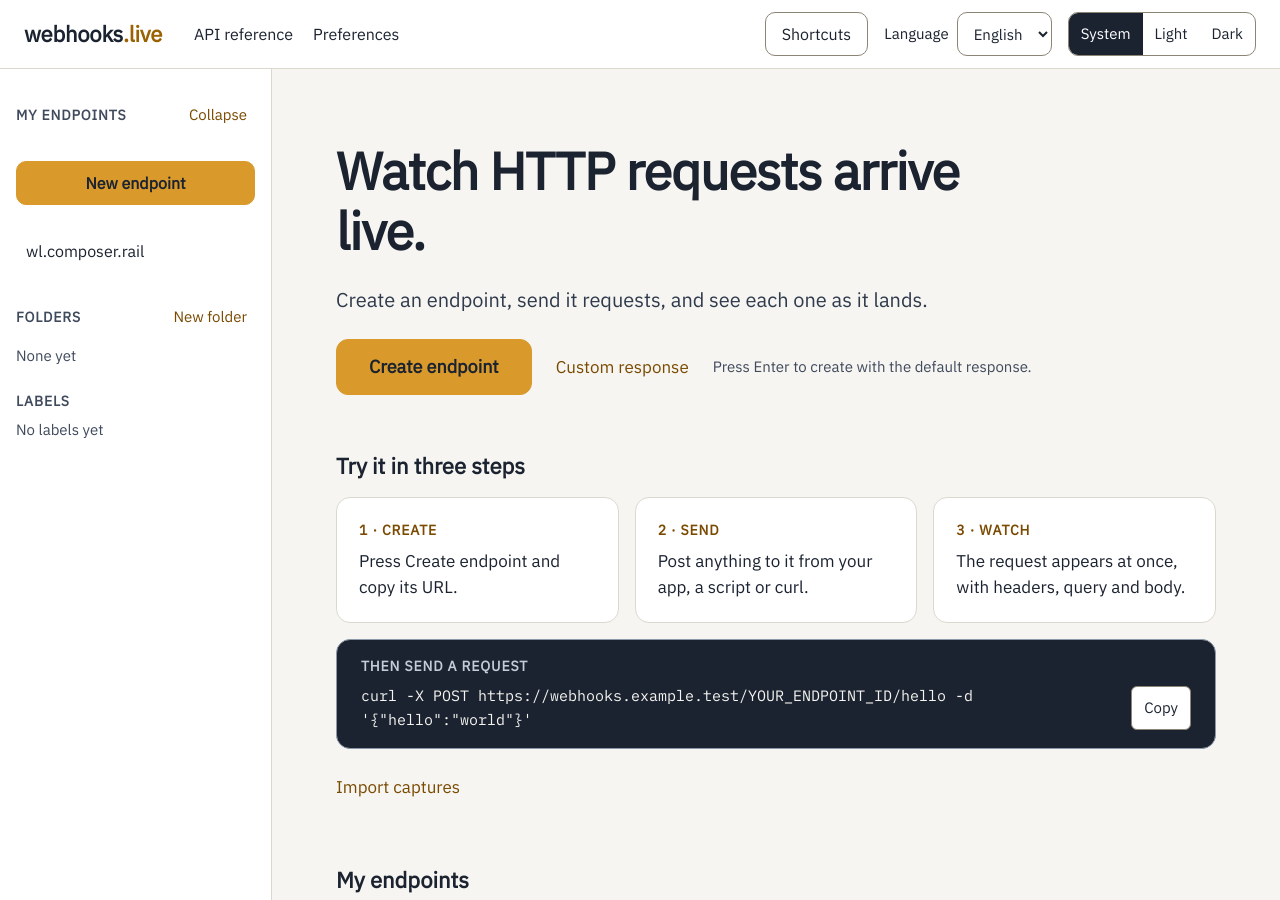
it: home screen › shows the retry-after wait when the server rate limits creation
The width and height of the screenshot is (1280, 900).
Expected: the heading "Watch HTTP requests arrive live." is shown, [336,141,960,261]
Click the button "Create endpoint": [434, 367] box [336,339,532,395]
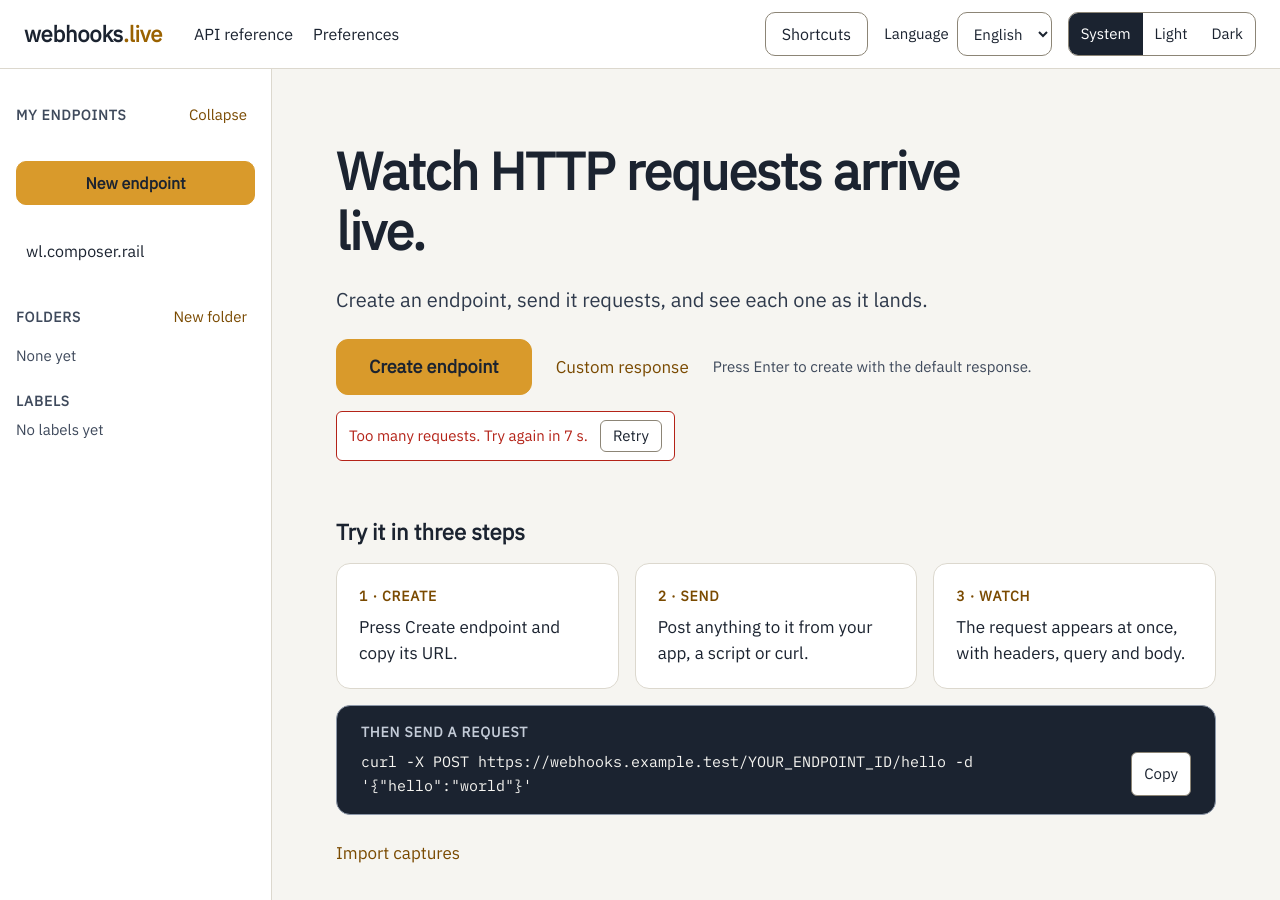
Now the text "Too many requests. Try again in 7 s." is shown, box [349,425,588,447]
